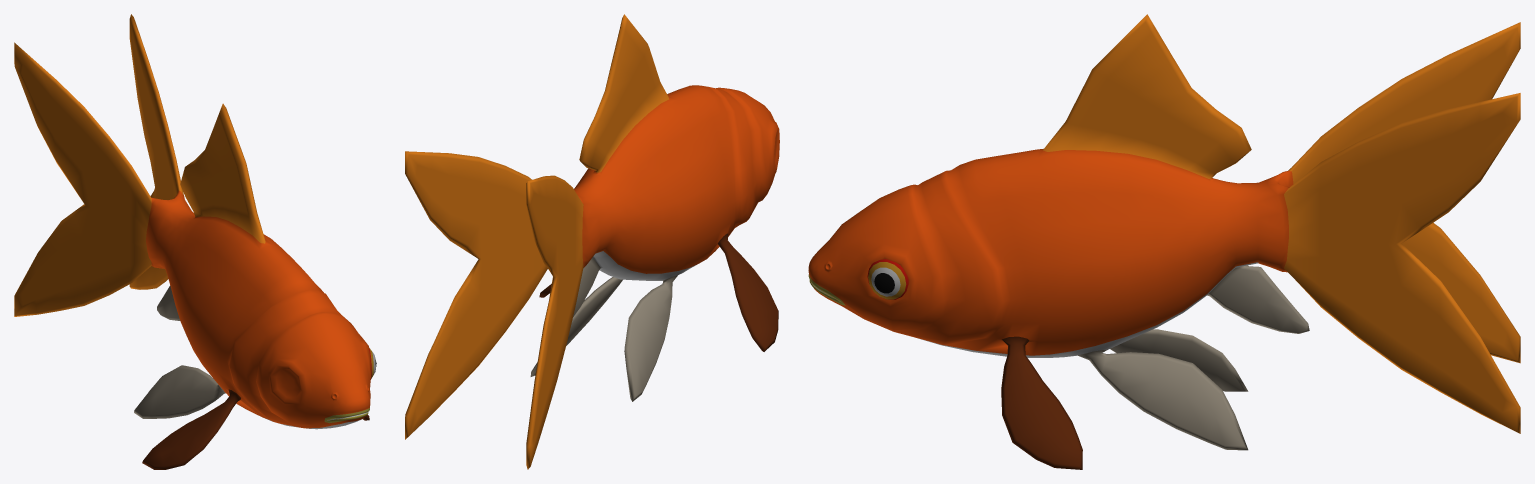
The model's file is goldfish.obj.
3 renders of one model, left to right at view 1: azimuth 30°, elevation 25°; view 2: azimuth 150°, elevation 25°; view 3: azimuth 270°, elevation 25°, orthographic. The views are drawn at different scales.
Visible parts, largest first — view 1: goldfish; view 2: goldfish; view 3: goldfish, eye.
Boxes of the visible parts, x1,y1,x2,y2 form: goldfish: [14, 14, 370, 469]; goldfish: [405, 14, 779, 469]; goldfish: [808, 14, 1520, 469]; eye: [867, 259, 908, 299].
Size of the model in its own units: 0.0859 by 0.1253 by 0.1986.
